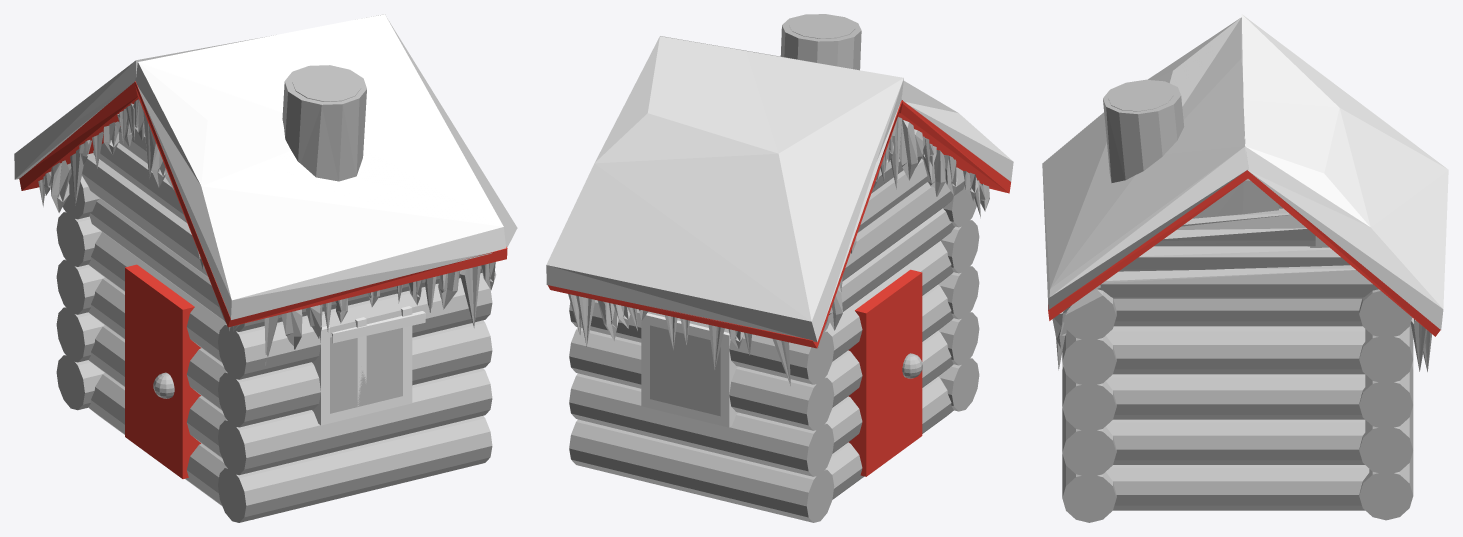
The model's file is house.obj.
The picture shows the model from 3 angles, left to right: view 1: azimuth 30°, elevation 25°; view 2: azimuth 150°, elevation 25°; view 3: azimuth 270°, elevation 25°; orthographic projection. The views are drawn at different scales.
Visible parts, largest first — view 1: group2000353006, group934078809, group1977997948, group490119430, group2114341105, group1905077180, group131020617, group2089625885, group2143334052, group1645517658, group1449501876, group1164989287 (+21 smaller); view 2: group1164989287, group144858826, group1977997948, group18980866, group559816411, group1680983966, group2119263963, group2143334052, group1645517658, group2000353006, group872490734, group131020617 (+18 smaller); view 3: group1164989287, group2000353006, group1563199209, group258946406, group1578518617, group1093835836, group1392902654, group230285577, group131020617, group1783605924, group377306759, group934078809 (+14 smaller).
Part boxes in pixels (bbox=[...]): group2000353006: bbox=[135, 14, 517, 319]; group934078809: bbox=[218, 416, 492, 522]; group1977997948: bbox=[125, 264, 200, 478]; group490119430: bbox=[218, 368, 492, 475]; group2114341105: bbox=[218, 320, 492, 427]; group1905077180: bbox=[218, 273, 492, 379]; group131020617: bbox=[282, 65, 366, 181]; group2089625885: bbox=[330, 328, 402, 413]; group2143334052: bbox=[82, 153, 208, 277]; group1645517658: bbox=[89, 198, 224, 321]; group1449501876: bbox=[135, 83, 507, 327]; group1164989287: bbox=[14, 14, 385, 179]; group1164989287: bbox=[546, 36, 903, 342]; group144858826: bbox=[569, 419, 834, 522]; group1977997948: bbox=[848, 269, 922, 476]; group18980866: bbox=[569, 373, 834, 476]; group559816411: bbox=[569, 328, 834, 430]; group1680983966: bbox=[650, 325, 720, 416]; group2119263963: bbox=[569, 300, 834, 384]; group2143334052: bbox=[842, 167, 964, 281]; group1645517658: bbox=[841, 208, 955, 311]; group2000353006: bbox=[660, 36, 1013, 182]; group872490734: bbox=[825, 241, 953, 361]; group131020617: bbox=[780, 14, 861, 70]; group1164989287: bbox=[1241, 14, 1448, 329]; group2000353006: bbox=[1042, 17, 1248, 309]; group1563199209: bbox=[1106, 326, 1365, 374]; group258946406: bbox=[1106, 465, 1369, 510]; group1578518617: bbox=[1106, 374, 1365, 419]; group1093835836: bbox=[1106, 419, 1365, 464]; group1392902654: bbox=[1097, 265, 1378, 298]; group230285577: bbox=[1113, 298, 1362, 326]; group131020617: bbox=[1103, 79, 1184, 182]; group1783605924: bbox=[1119, 246, 1350, 271]; group377306759: bbox=[1154, 208, 1315, 246]; group934078809: bbox=[1062, 454, 1116, 522].
Size of the model in its own units: 0.9792 by 1.32 by 1.22.
